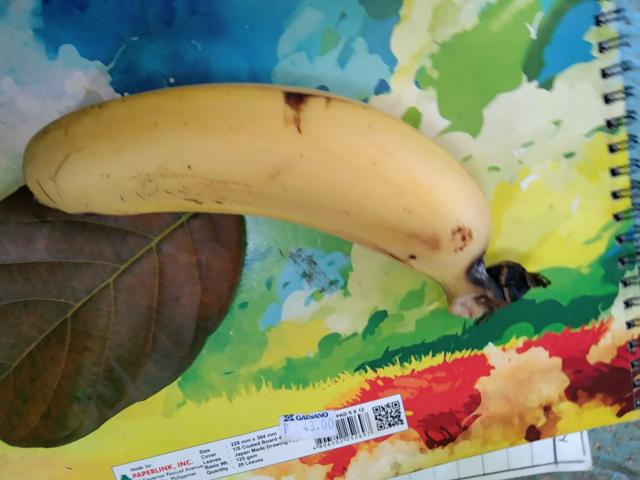freshripe: (7, 71, 492, 290)
